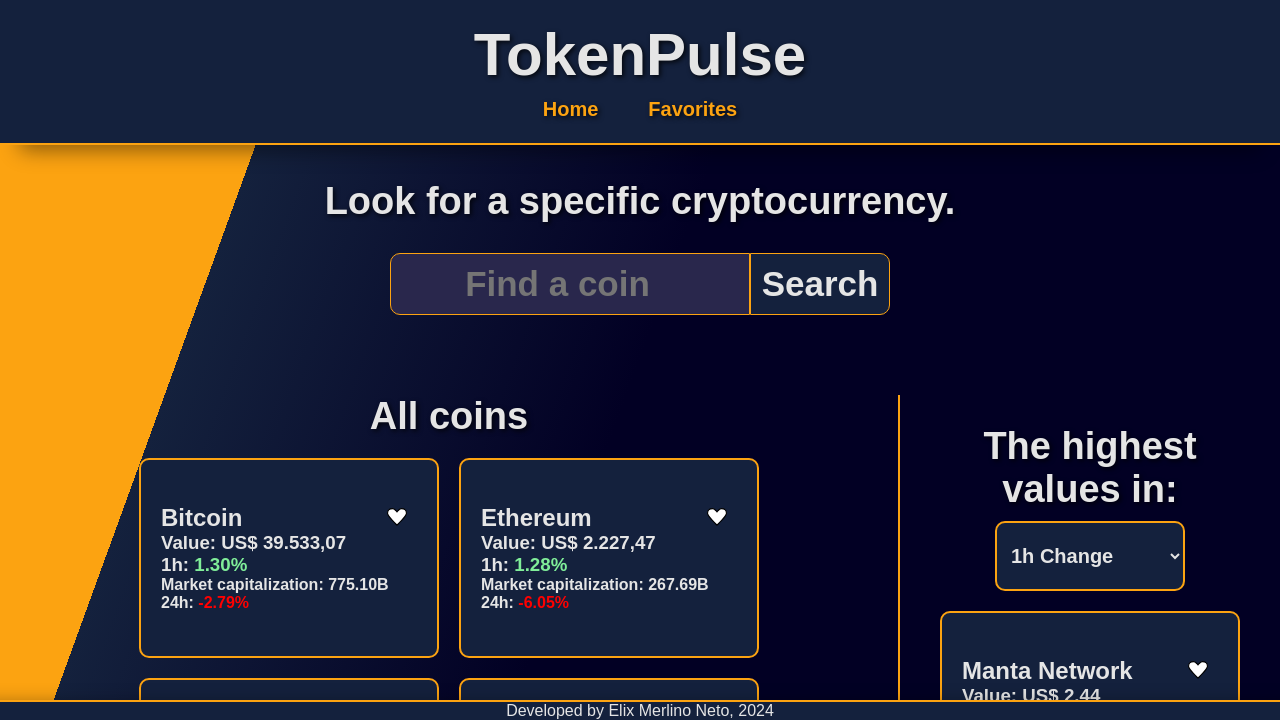
Test case: Testes de funcionalidade › Testa a funcionalidade do botão de pesquisar
Expected: the button with test id "search-btn" is shown, 750,253 -> 890,315
Type "bitcoin" into the search field with test id "input-search". click: (570, 284)
box: 390,253 -> 750,315
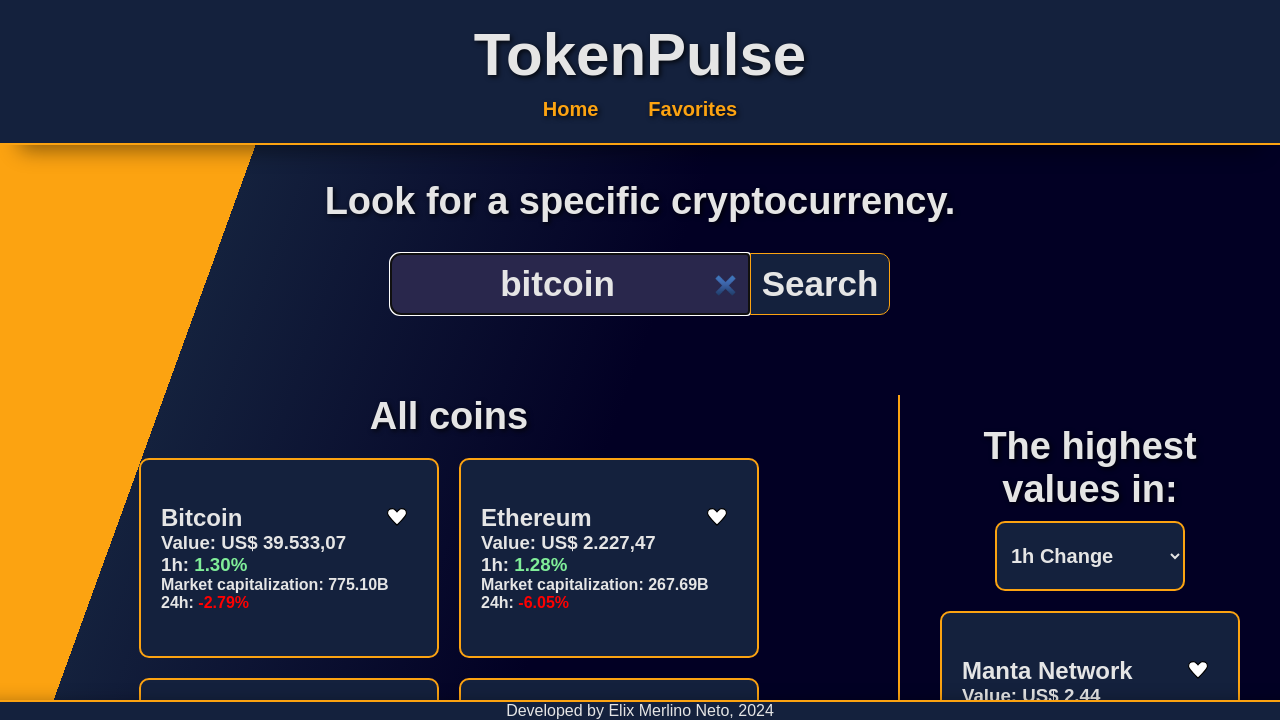
Click the button with test id "search-btn". click: (820, 284)
box: 750,253 -> 890,315
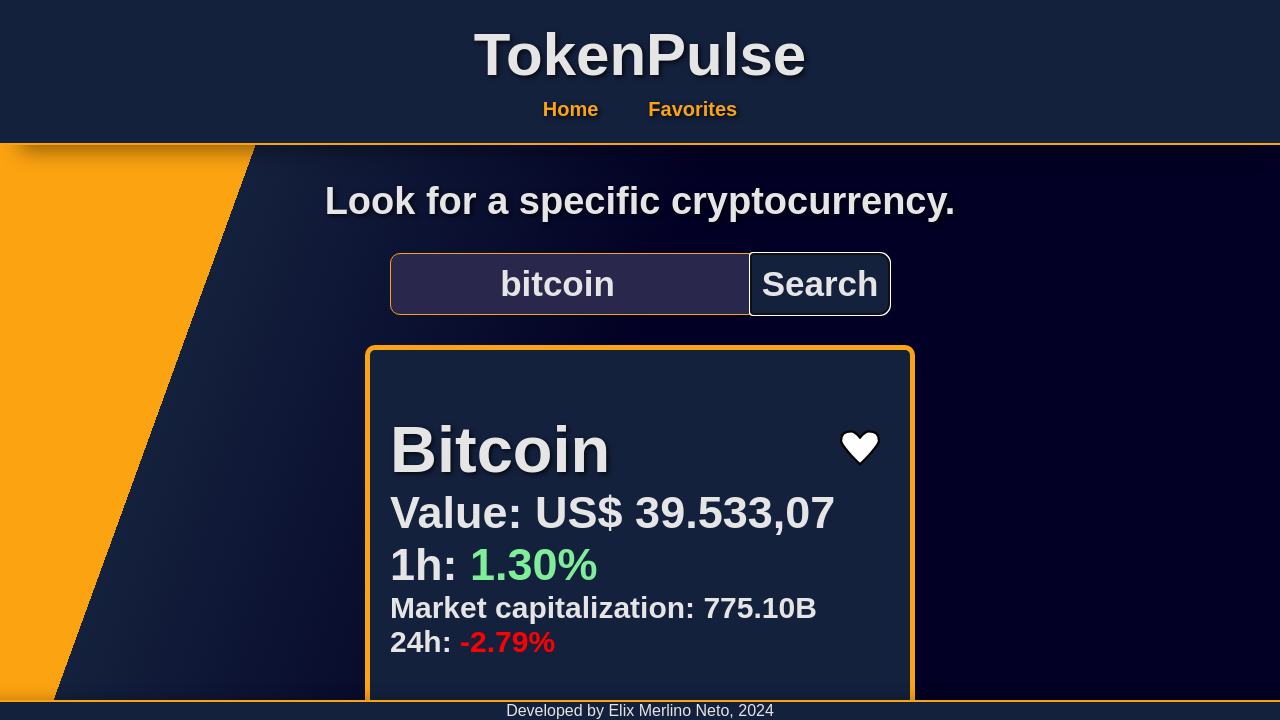
Expected: the number of headings "Bitcoin" is 2
